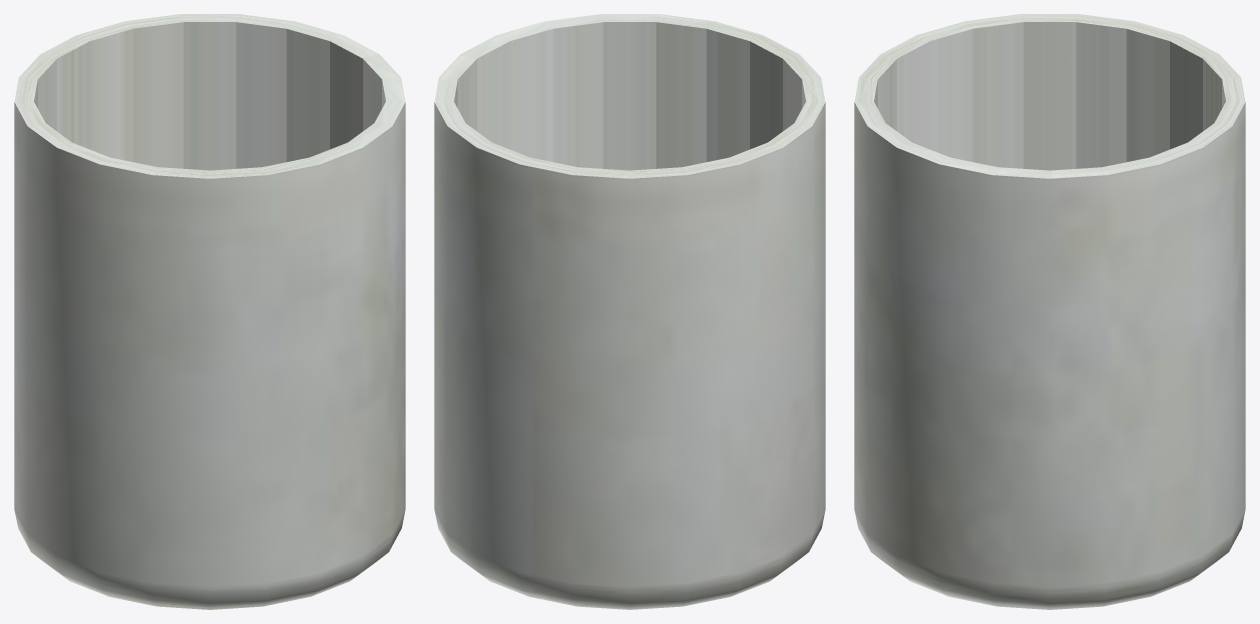
File: kubeczek.FBX
3 renders of one model, left to right at view 1: azimuth 30°, elevation 25°; view 2: azimuth 150°, elevation 25°; view 3: azimuth 270°, elevation 25°, orthographic.
Parts seen in each view (by area): view 1: kubek; view 2: kubek; view 3: kubek.
Boxes of the visible parts, x1,y1,x2,y2 form: kubek: (14,14,405,609); kubek: (434,14,825,609); kubek: (854,14,1245,609).
Bounding box in the file's own units: 0.5059 × 0.6348 × 0.5073.
Materials: 1 (1 with a texture image).
